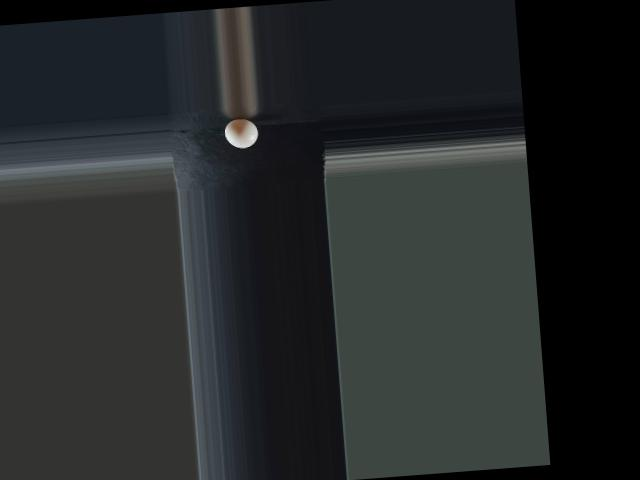egg: (223, 117, 258, 149)
